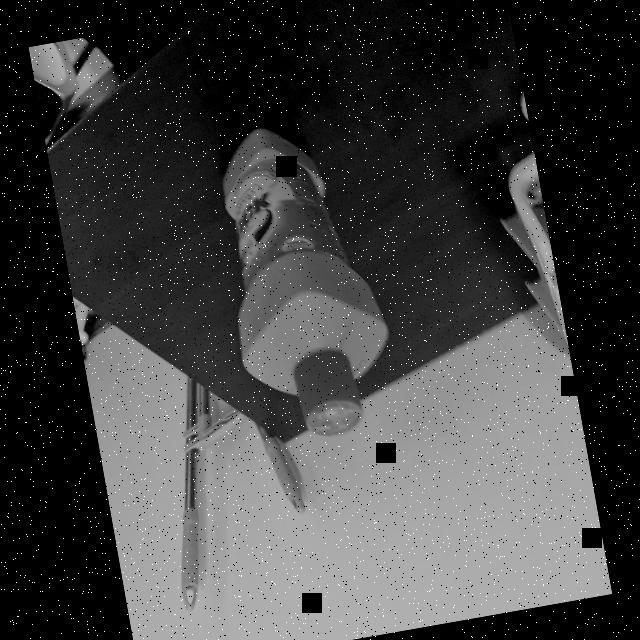chemical_plastic_bottle: (201, 109, 408, 457)
